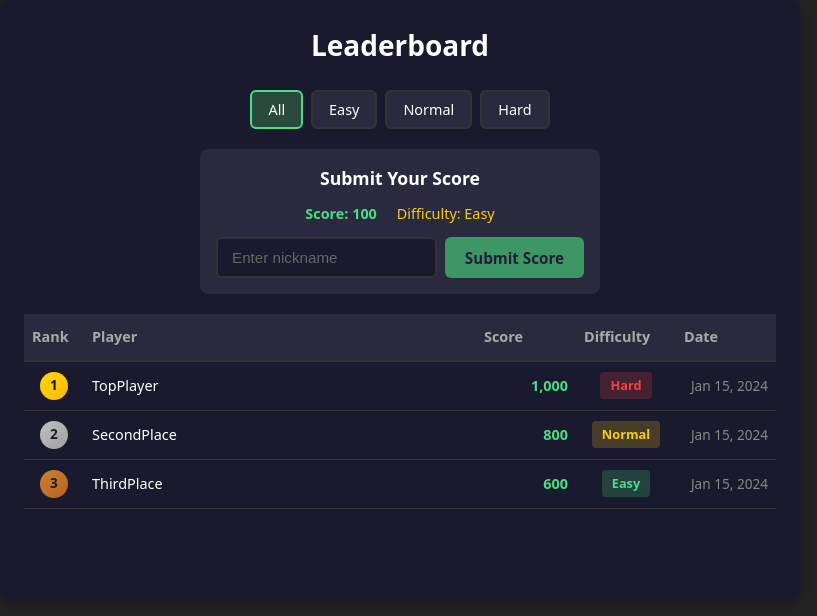
Leaderboard › score submission › shows error message when submission fails
In the field with test id "nickname-input": x=326, y=258 x1=216 y1=237 x2=437 y2=278, type "TestPlayer"
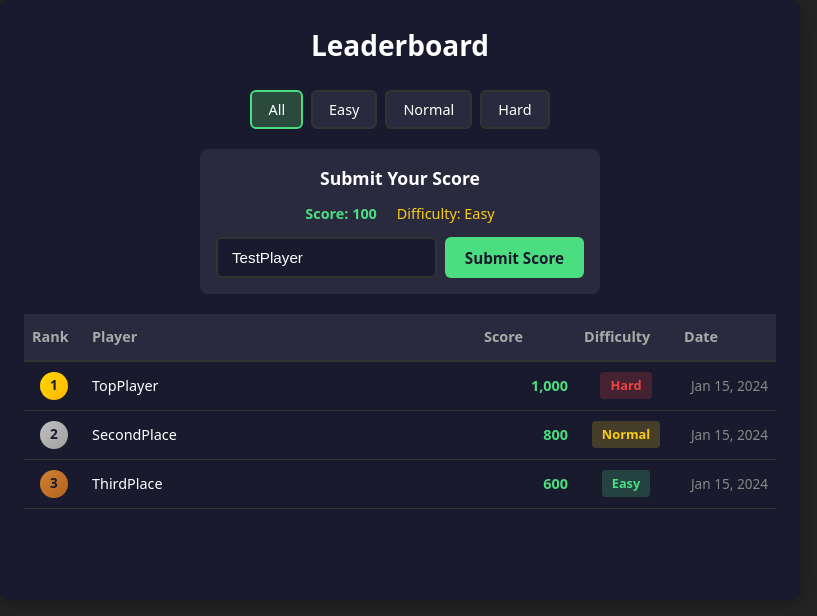
Click the button with test id "submit-score-button": x=514, y=258 x1=445 y1=237 x2=584 y2=278
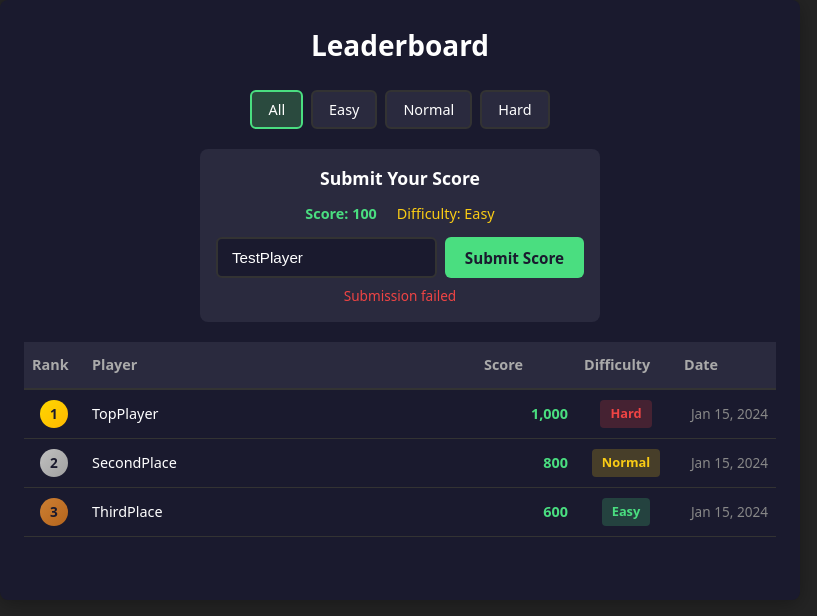
Now the text "Submission failed" is shown, box x1=344 y1=286 x2=456 y2=305
